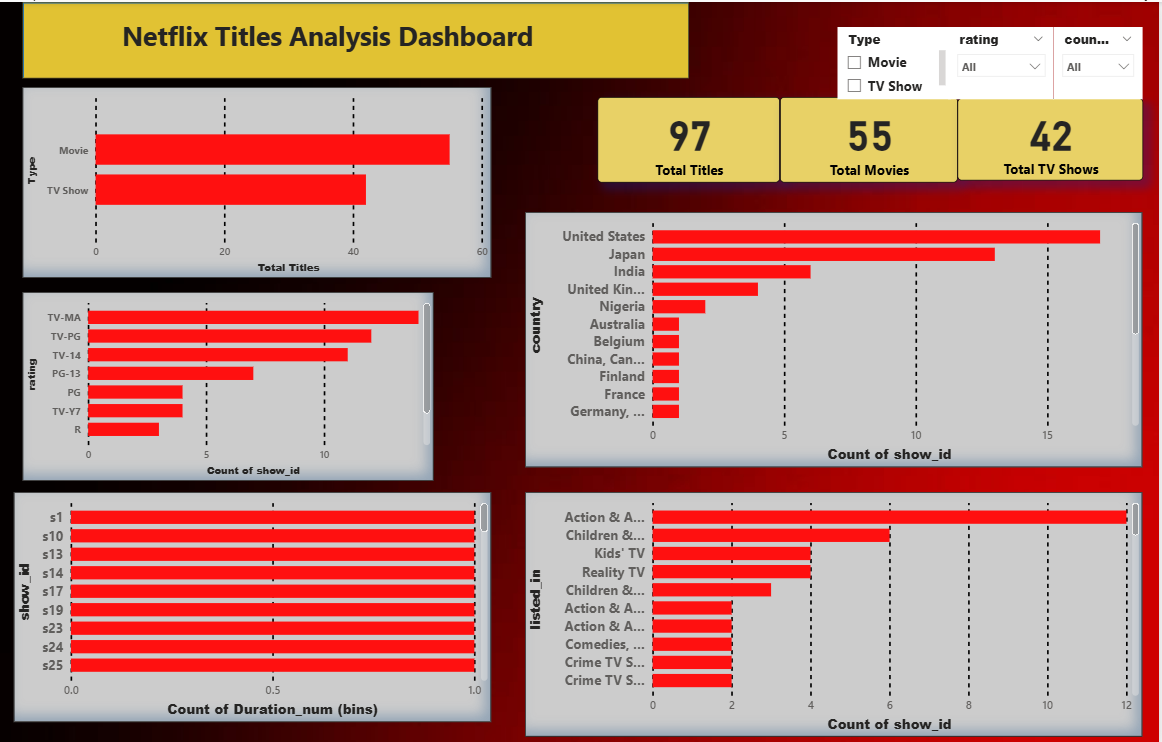

The dashboard page shown, as its layout file describes it:
{"tool":"powerbi","page":{"name":"Page 1","canvas":[1400,900],"ordinal":0},"visuals":[{"type":"slicer","fields":{"Values":["netflix_projects netflix.type"]},"box":[1010.6,29.9,135.7,87.5],"z":0,"group":"g3"},{"type":"barChart","fields":{"Category":["netflix_projects netflix.type"],"Y":["CountNonNull(netflix_projects netflix.show_id)"]},"box":[27.1,102.5,565.5,230.7],"z":0},{"type":"card","fields":{"Values":["CountNonNull(netflix_projects netflix.show_id)"]},"box":[720.8,114.6,220,103],"z":0,"group":"g1"},{"type":"slicer","fields":{"Values":["netflix_projects netflix.rating"]},"box":[1145.4,30.1,126.7,87.3],"z":1000,"group":"g3"},{"type":"card","fields":{"Values":["CountNonNull(netflix_projects netflix.show_id)"]},"box":[940.8,114.6,214,103],"z":1000,"group":"g1"},{"type":"barChart","fields":{"Category":["netflix_projects netflix.country"],"Y":["CountNonNull(netflix_projects netflix.show_id)"]},"box":[633.4,253.4,745,307.6],"z":1000},{"type":"slicer","fields":{"Values":["netflix_projects netflix.country"]},"box":[1272.1,30.1,107,87.3],"z":2000,"group":"g3"},{"type":"card","fields":{"Values":["CountNonNull(netflix_projects netflix.show_id)"]},"box":[1155.2,115.9,224,99],"z":2000,"group":"g1"},{"type":"barChart","fields":{"Category":["netflix_projects netflix.rating"],"Y":["CountNonNull(netflix_projects netflix.show_id)"]},"box":[27.1,349.9,496.1,227.7],"z":2000},{"type":"barChart","title":"Genre Analysis","fields":{"Category":["netflix_projects netflix.listed_in"],"Y":["CountNonNull(netflix_projects netflix.show_id)"]},"box":[633.4,591.2,745,295.6],"z":3000},{"type":"barChart","title":"Duration Analysis","fields":{"Y":["CountNonNull(netflix_projects netflix.Duration_num (bins))"],"Category":["netflix_projects netflix.show_id"]},"box":[16.6,591.2,576.1,277.5],"z":4000},{"type":"group","id":"g1","title":"Group 1","box":[720.8,114.6,657.5,102.5],"z":5000},{"type":"group","id":"g2","title":"Group 2","box":[2.8,0,828.1,92],"z":6000},{"type":"group","id":"g3","title":"Group 3","box":[1010.6,29.9,368.5,87.5],"z":7000},{"type":"shape","box":[27.1,0,803.8,92],"z":8000,"group":"g2"},{"type":"textbox","box":[2.8,13.6,784.2,78.4],"z":10000,"group":"g2"}]}

Visuals, with their boxes in screenshot pixels (x1, y1, x2, y2), scaled from the page's 1400x900 canvas onto the 1162x742 screenshot:
slicer - netflix_projects netflix.type: 839, 25, 951, 97
barChart - netflix_projects netflix.type x CountNonNull(netflix_projects netflix.show_id): 22, 85, 492, 275
card - CountNonNull(netflix_projects netflix.show_id): 598, 94, 781, 179
slicer - netflix_projects netflix.rating: 951, 25, 1056, 97
card - CountNonNull(netflix_projects netflix.show_id): 781, 94, 958, 179
barChart - netflix_projects netflix.country x CountNonNull(netflix_projects netflix.show_id): 526, 209, 1144, 463
slicer - netflix_projects netflix.country: 1056, 25, 1145, 97
card - CountNonNull(netflix_projects netflix.show_id): 959, 96, 1145, 177
barChart - netflix_projects netflix.rating x CountNonNull(netflix_projects netflix.show_id): 22, 288, 434, 476
"Genre Analysis" barChart: 526, 487, 1144, 731
"Duration Analysis" barChart: 14, 487, 492, 716
"Group 1" group: 598, 94, 1144, 179
"Group 2" group: 2, 0, 690, 76
"Group 3" group: 839, 25, 1145, 97
shape: 22, 0, 690, 76
textbox: 2, 11, 653, 76
